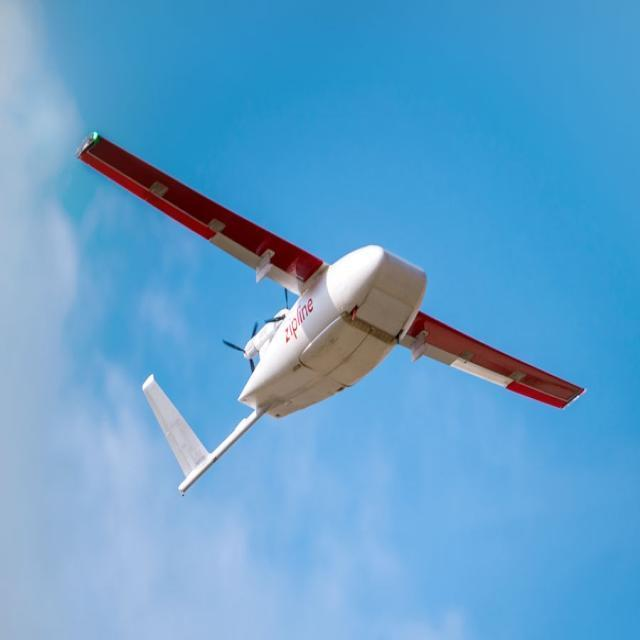iha: (66, 126, 583, 505)
